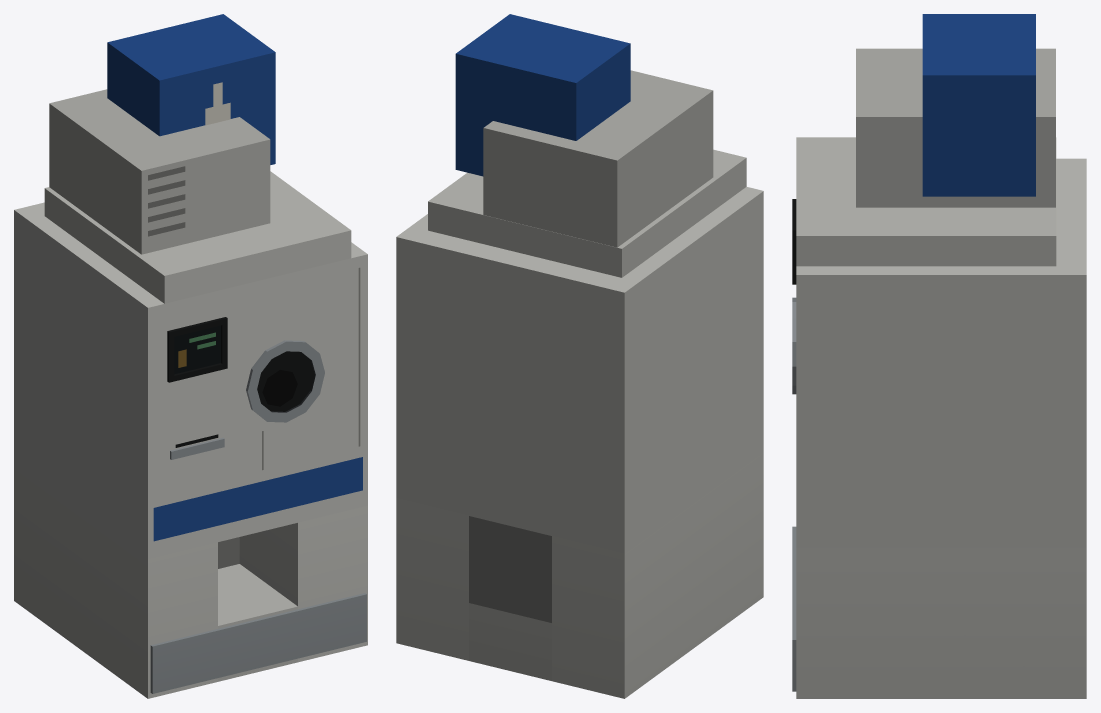
File: shop.bottle_return.blue.glb
3 views of the same model, side by side, from view 1: azimuth 30°, elevation 25°; view 2: azimuth 150°, elevation 25°; view 3: azimuth 270°, elevation 25° (orthographic). The views are drawn at different scales.
Visible parts, largest first — view 1: shop_bottle_return_blue; view 2: shop_bottle_return_blue; view 3: shop_bottle_return_blue.
Boxes of the visible parts, box(x1,y1,x2,y2) form: shop_bottle_return_blue: box(14, 14, 367, 698); shop_bottle_return_blue: box(396, 14, 763, 698); shop_bottle_return_blue: box(792, 14, 1086, 698).
Size of what is drawn, in the model's own units: 0.824 by 2 by 0.881.
